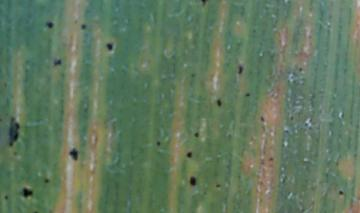tarspot: (7, 115, 22, 149), (66, 146, 81, 162), (187, 174, 198, 188), (22, 186, 33, 198), (104, 42, 115, 53), (45, 19, 55, 31), (184, 149, 194, 160), (235, 64, 244, 76), (53, 57, 62, 67), (199, 1, 209, 9), (78, 22, 87, 30), (215, 97, 222, 107), (2, 193, 10, 201), (193, 131, 200, 140), (268, 154, 275, 163), (243, 91, 251, 98), (214, 182, 222, 189), (259, 115, 265, 124), (336, 189, 344, 195), (296, 66, 304, 72), (188, 71, 196, 77), (43, 178, 50, 184), (155, 140, 161, 147), (12, 150, 19, 156), (72, 18, 78, 24), (288, 114, 294, 120), (31, 209, 39, 213), (283, 128, 288, 134)
